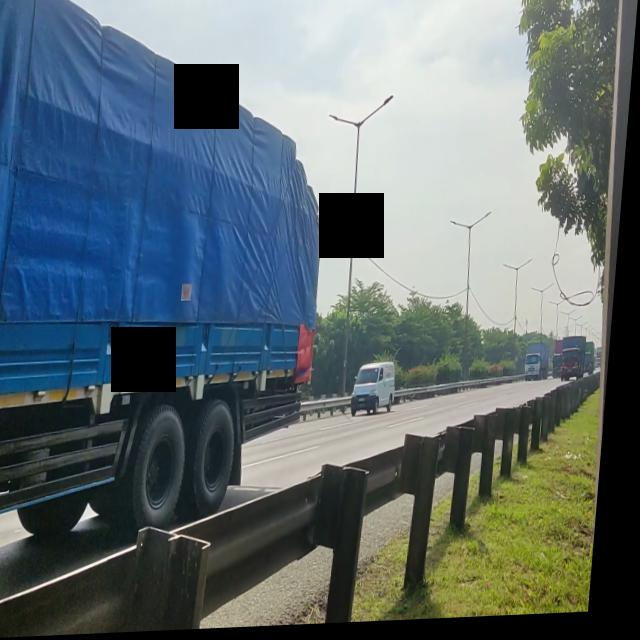Golongan I: (354, 355, 407, 424)
